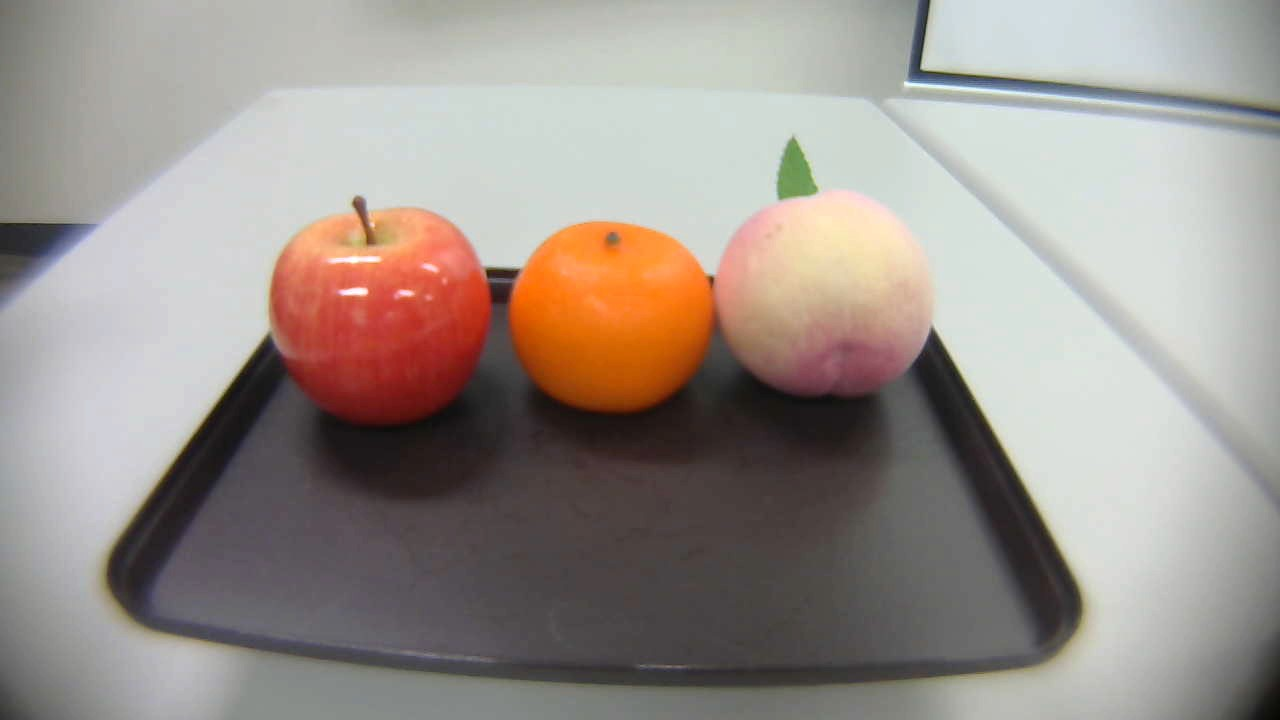orange: (502, 216, 718, 424)
peach: (723, 137, 938, 403)
red apple: (260, 193, 497, 430)
